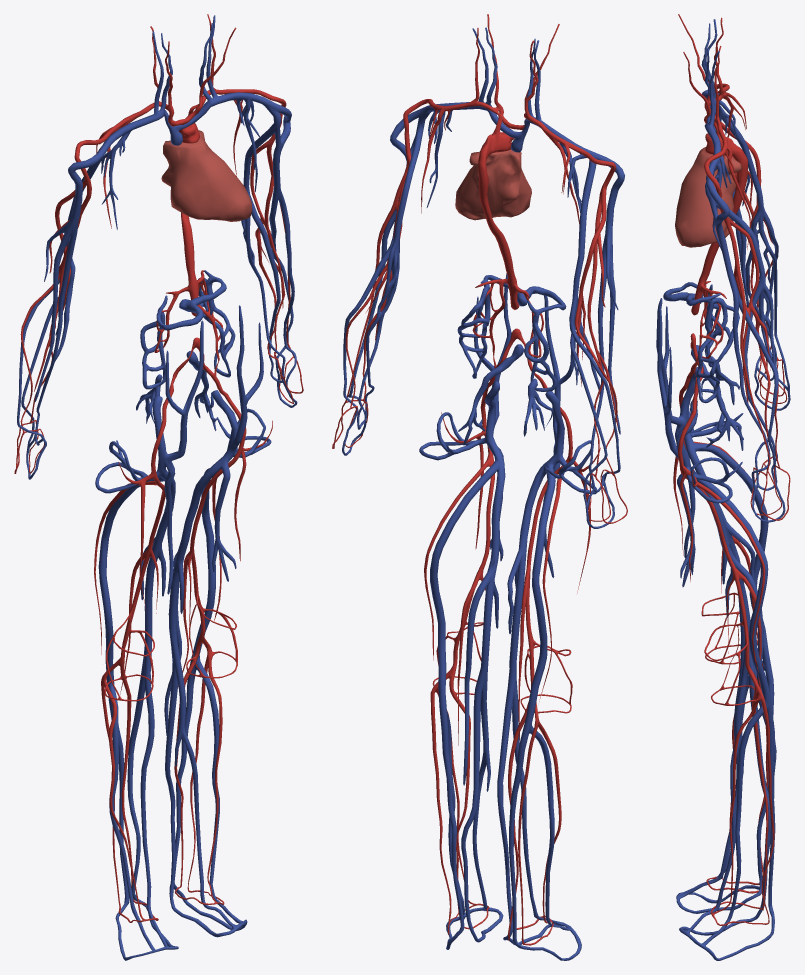
Rendered from icrp_adult_female.cardiovascular.LOD2.glb.
The picture shows the model from 3 angles, left to right: view 1: azimuth 30°, elevation 25°; view 2: azimuth 150°, elevation 25°; view 3: azimuth 270°, elevation 25°; orthographic projection. The views are drawn at different scales.
Parts seen in each view (by area): view 1: ICRP.ADULT.FEMALE.CARDIOVASCULAR.BLOOD_IN_LARGE_VEINS, ICRP.ADULT.FEMALE.CARDIOVASCULAR.BLOOD_IN_LARGE_ARTERIES, ICRP.ADULT.FEMALE.CARDIOVASCULAR.HEART_WALL; view 2: ICRP.ADULT.FEMALE.CARDIOVASCULAR.BLOOD_IN_LARGE_VEINS, ICRP.ADULT.FEMALE.CARDIOVASCULAR.BLOOD_IN_LARGE_ARTERIES, ICRP.ADULT.FEMALE.CARDIOVASCULAR.HEART_WALL; view 3: ICRP.ADULT.FEMALE.CARDIOVASCULAR.BLOOD_IN_LARGE_VEINS, ICRP.ADULT.FEMALE.CARDIOVASCULAR.BLOOD_IN_LARGE_ARTERIES, ICRP.ADULT.FEMALE.CARDIOVASCULAR.HEART_WALL.
Boxes of the visible parts, x1,y1,x2,y2 form: ICRP.ADULT.FEMALE.CARDIOVASCULAR.BLOOD_IN_LARGE_VEINS: (17,15,297,960); ICRP.ADULT.FEMALE.CARDIOVASCULAR.BLOOD_IN_LARGE_ARTERIES: (14,14,303,922); ICRP.ADULT.FEMALE.CARDIOVASCULAR.HEART_WALL: (161,130,252,221); ICRP.ADULT.FEMALE.CARDIOVASCULAR.BLOOD_IN_LARGE_VEINS: (342,27,624,960); ICRP.ADULT.FEMALE.CARDIOVASCULAR.BLOOD_IN_LARGE_ARTERIES: (332,14,627,945); ICRP.ADULT.FEMALE.CARDIOVASCULAR.HEART_WALL: (455,149,531,220); ICRP.ADULT.FEMALE.CARDIOVASCULAR.BLOOD_IN_LARGE_VEINS: (656,19,790,960); ICRP.ADULT.FEMALE.CARDIOVASCULAR.BLOOD_IN_LARGE_ARTERIES: (673,14,790,925); ICRP.ADULT.FEMALE.CARDIOVASCULAR.HEART_WALL: (675,147,742,247).
Bounding box in the file's own units: 0.491 × 1.5 × 0.2014.
